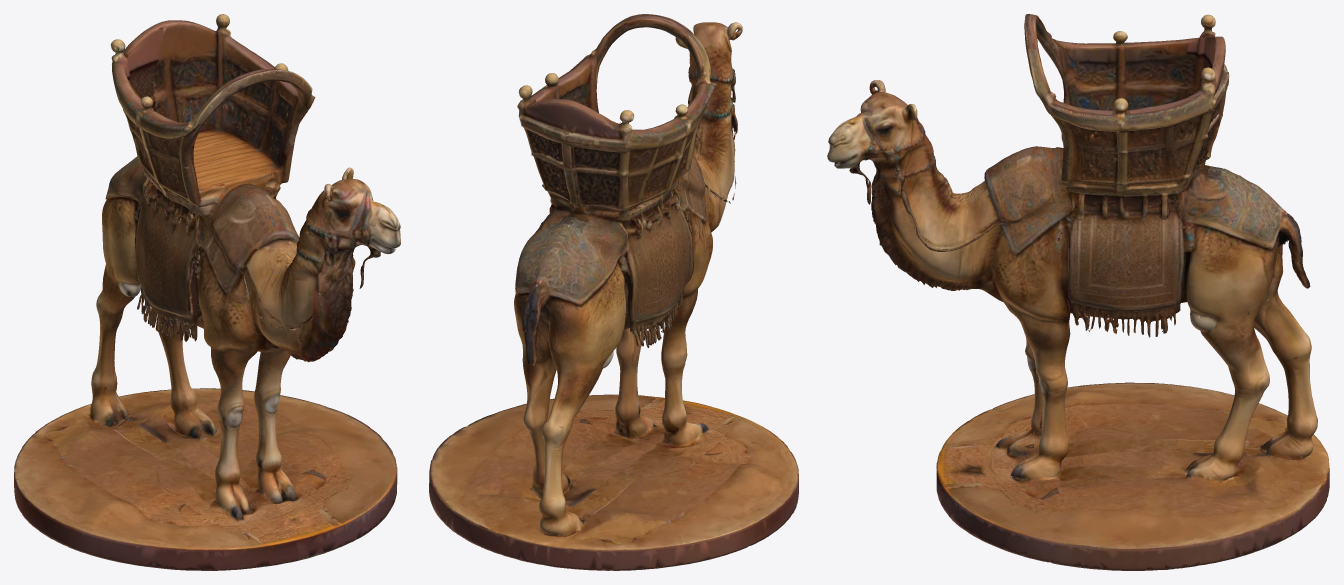
The model's file is camel object.glb.
The picture shows the model from 3 angles, left to right: view 1: azimuth 30°, elevation 25°; view 2: azimuth 150°, elevation 25°; view 3: azimuth 270°, elevation 25°; orthographic projection. The views are drawn at different scales.
Size of the model in its own units: 1.54 by 2 by 1.95.
Materials: 1 (1 with a texture image).
